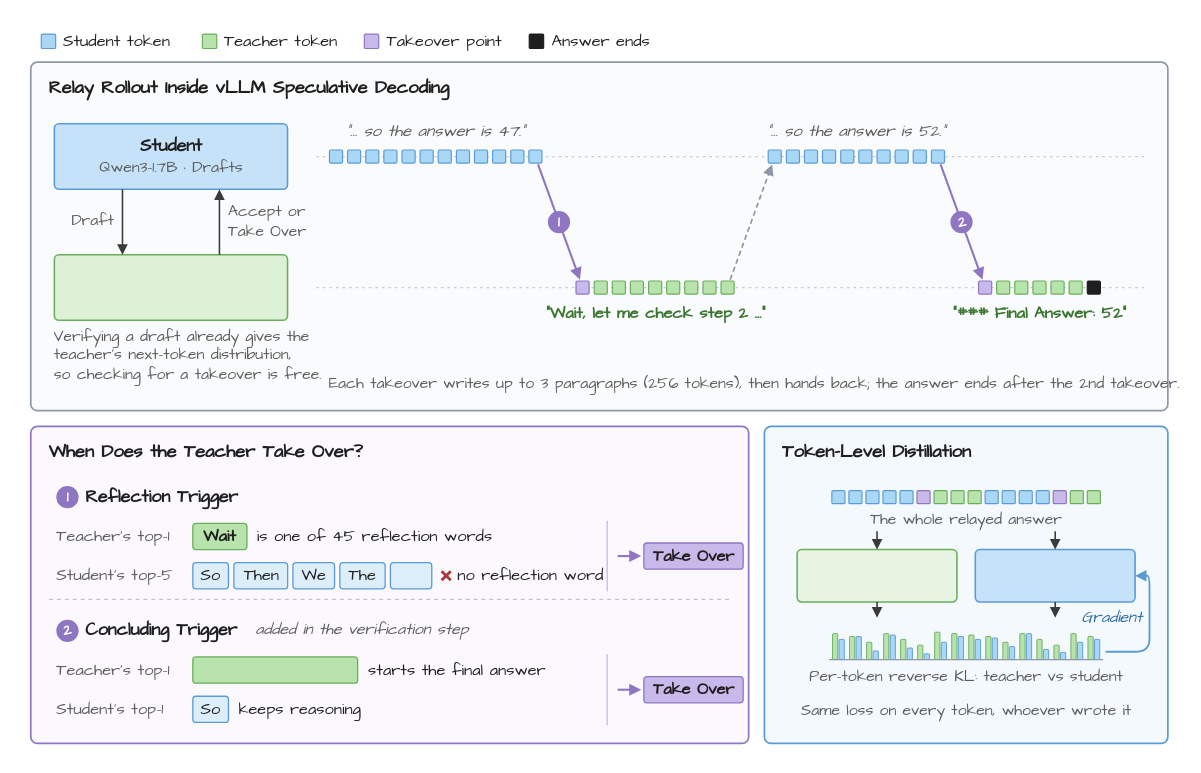
Image size: 1201x773. Some labels were removed from this diagram. The centre of each missing label's shape, as x and y in pixels:
"### Final Answer" goes at pixel 275 669.
"Let" goes at pixel 410 575.
"Student being trained" goes at pixel 1054 575.
"Teacher Qwen3-4B · Verifies" goes at pixel 170 286.
"Teacher Scorer separate GPU" goes at pixel 876 575.
